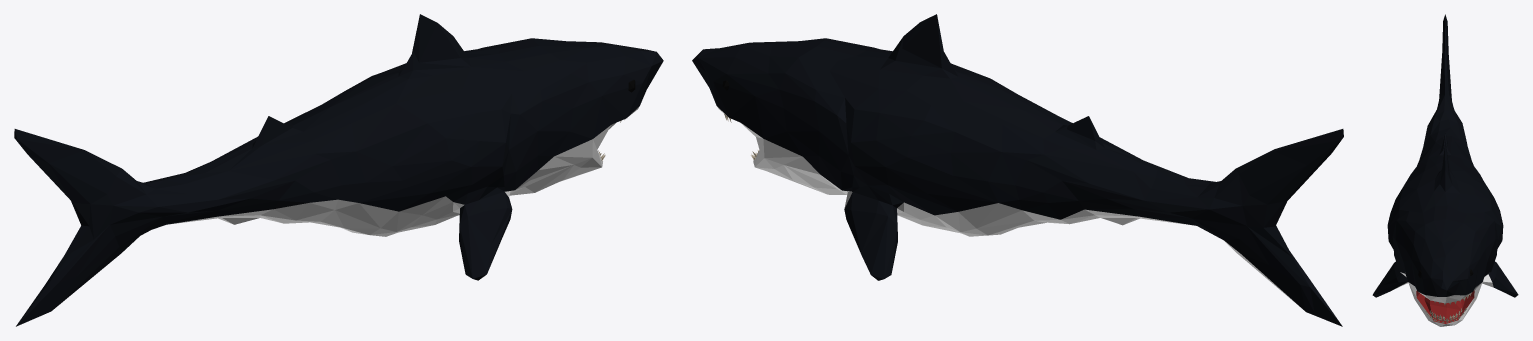
File: Shark 3.FBX
The picture shows the model from 3 angles, left to right: view 1: azimuth 30°, elevation 25°; view 2: azimuth 150°, elevation 25°; view 3: azimuth 270°, elevation 25°; orthographic projection. The views are drawn at different scales.
Parts seen in each view (by area): view 1: Body; view 2: Body; view 3: Body, Teeth.
Boxes of the visible parts, x1,y1,x2,y2 form: Body: (14, 14, 663, 326); Body: (692, 14, 1343, 326); Body: (1372, 14, 1518, 326); Teeth: (1422, 293, 1471, 322).
Size of the model in its own units: 707 by 241 by 203.
